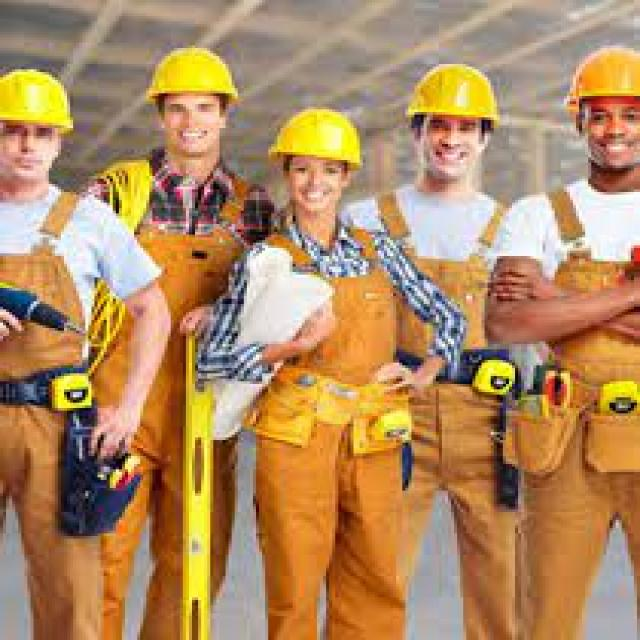Reflective-Jacket: (241, 227, 411, 453)
Safety-Helmet: (399, 59, 509, 133), (265, 102, 372, 174), (140, 42, 244, 106), (0, 64, 82, 138), (561, 43, 640, 117)
